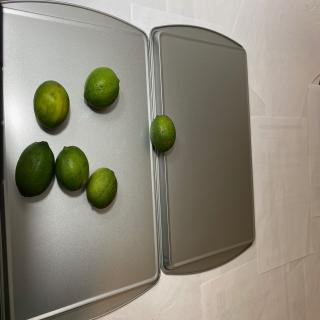Lemon: (15, 140, 55, 198), (33, 80, 70, 129), (55, 146, 89, 192), (84, 67, 120, 109), (86, 167, 118, 209), (149, 114, 176, 152)
